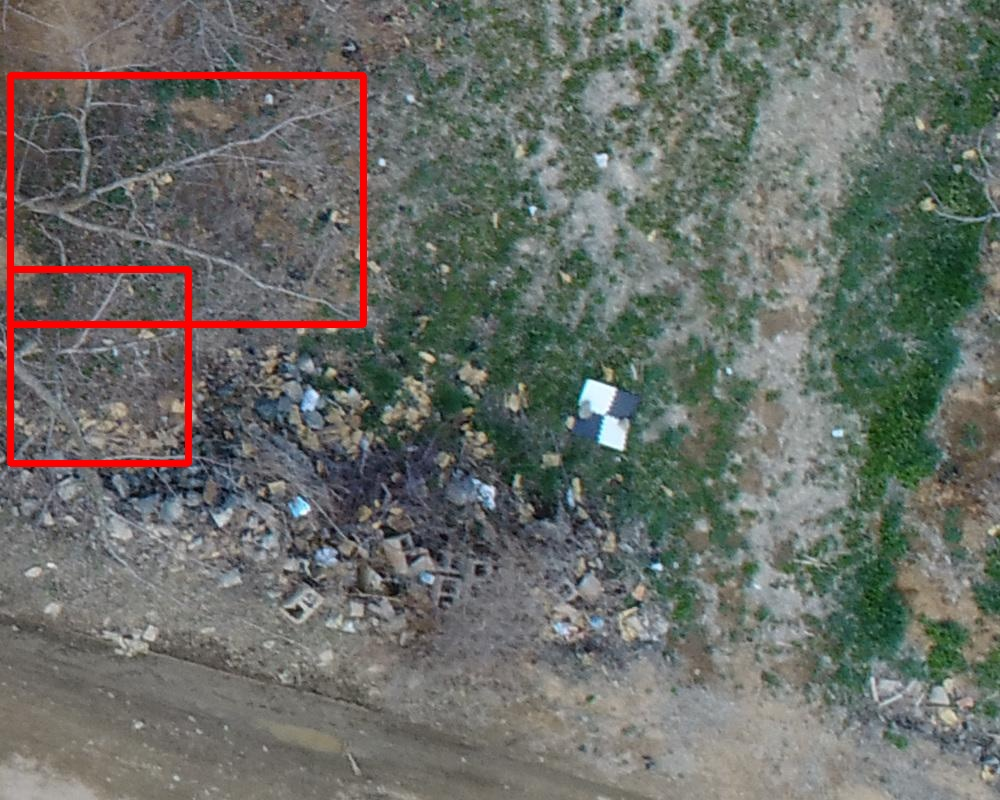apple: (10, 75, 363, 324), (10, 269, 188, 463)
